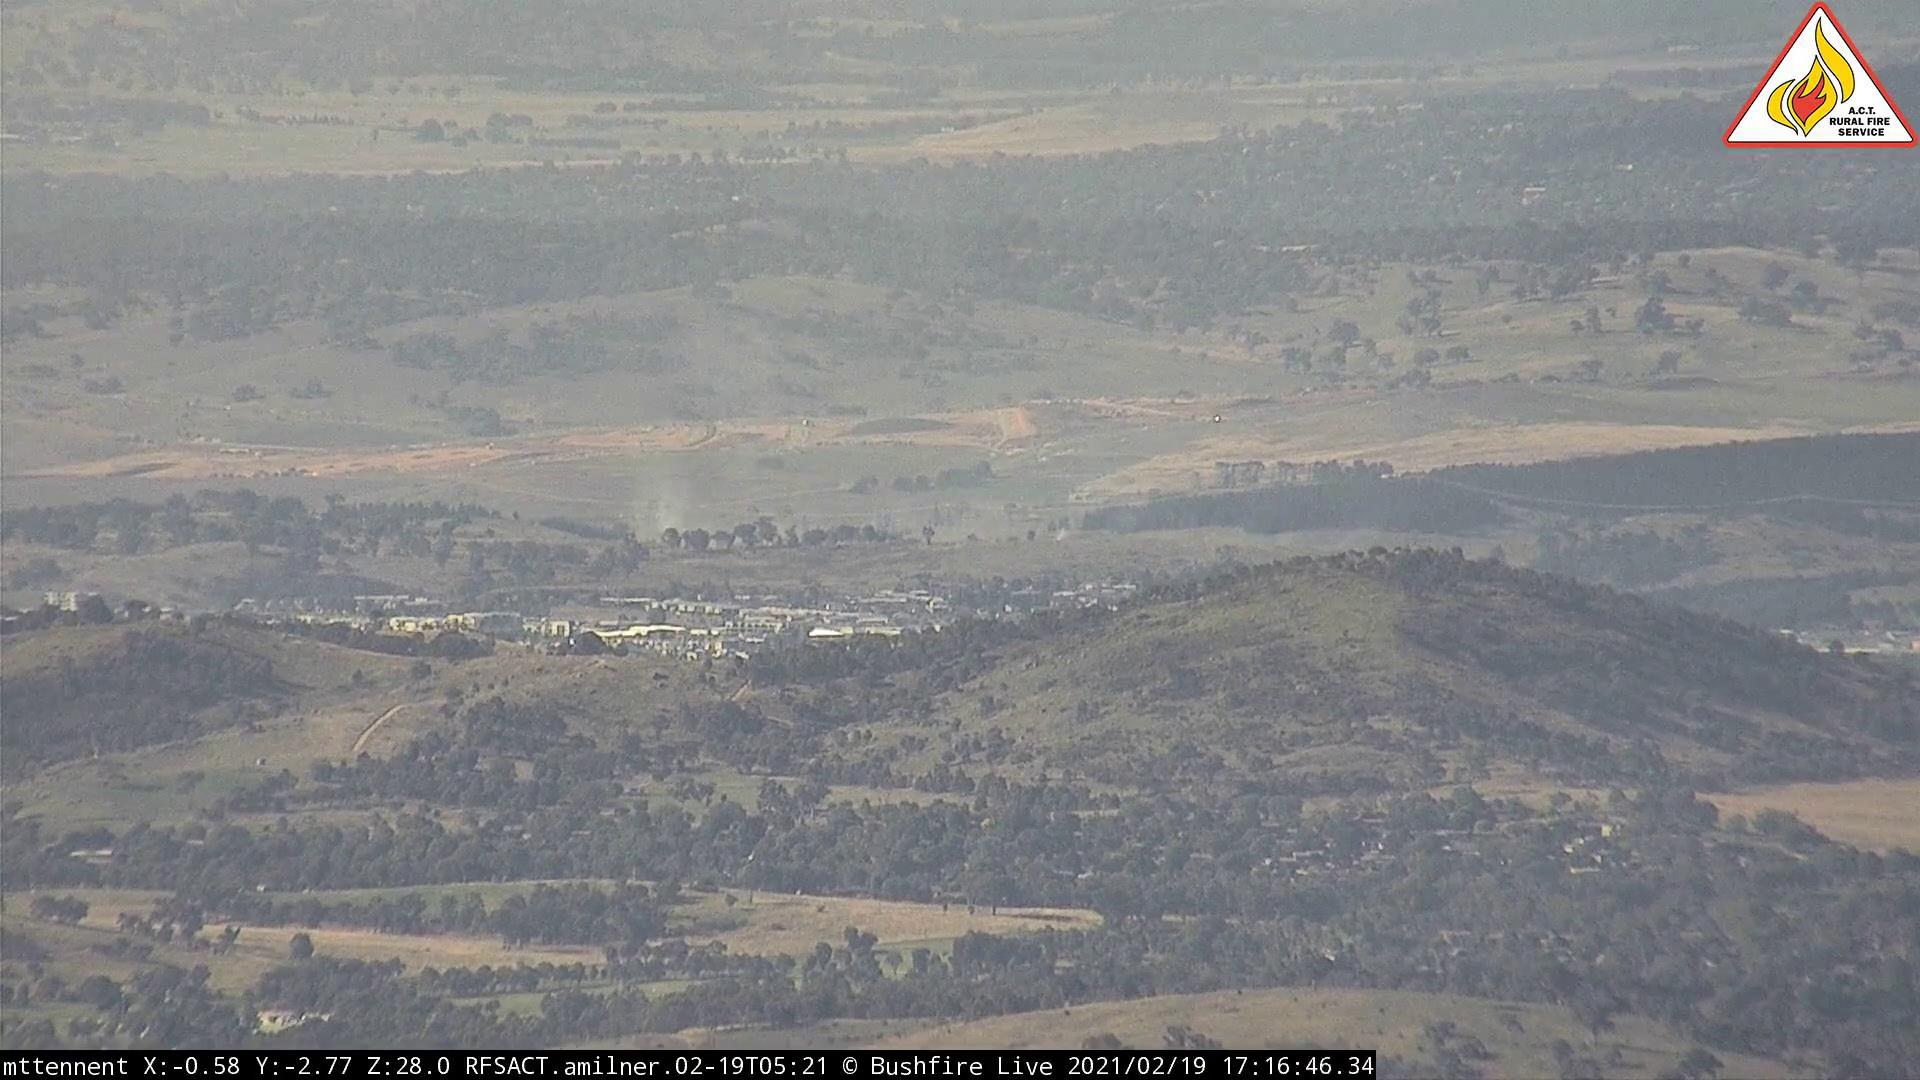Smoke: (626, 430, 732, 556), (1052, 498, 1110, 546)
